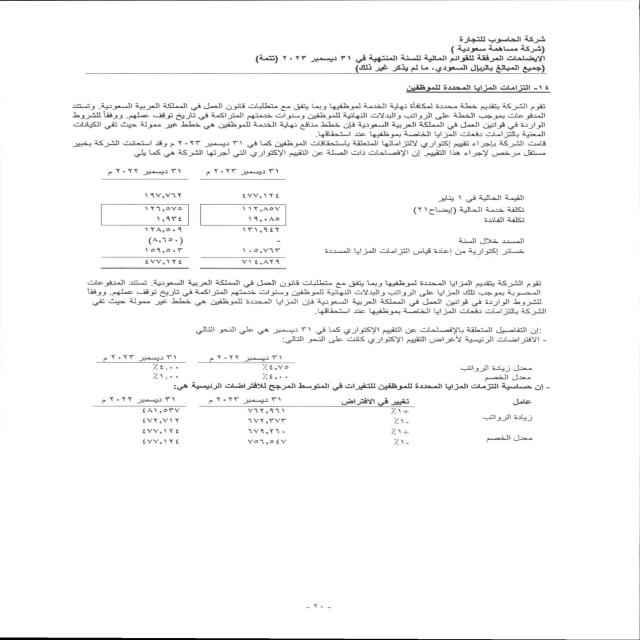notes: (419, 54, 548, 64)
table: (78, 394, 572, 446), (64, 163, 295, 272), (67, 352, 304, 384)
